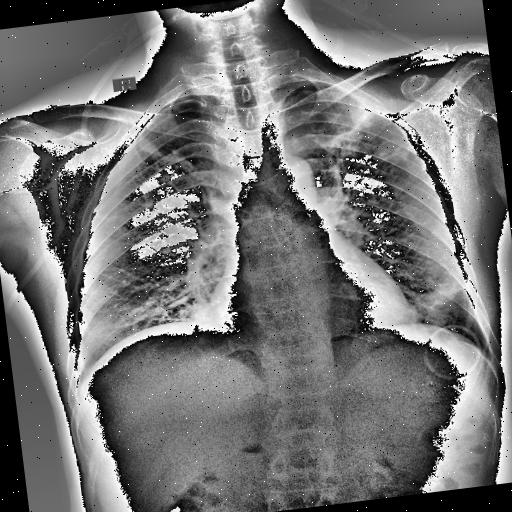13- Pulmonary fibrosis: (302, 78, 416, 200), (300, 102, 414, 200), (310, 95, 414, 175), (123, 128, 201, 212), (126, 132, 204, 208), (138, 129, 202, 211), (424, 274, 463, 311)
3- Cardiomegaly: (196, 261, 409, 345)
4- Consolidation: (346, 98, 376, 132)
6- Infiltration: (310, 95, 414, 175), (138, 129, 202, 211), (416, 264, 463, 330)
7- Lung Opacity: (400, 260, 468, 324), (424, 274, 463, 311), (346, 98, 376, 132)
